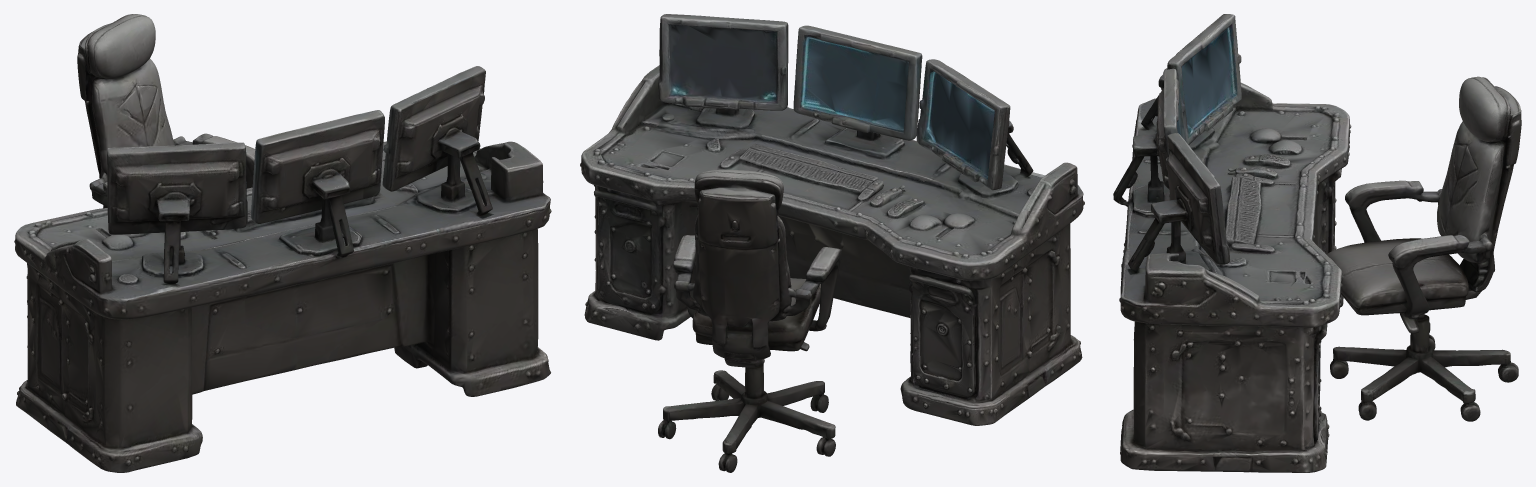
The model's file is consoles.glb.
3 renders of one model, left to right at view 1: azimuth 30°, elevation 25°; view 2: azimuth 150°, elevation 25°; view 3: azimuth 270°, elevation 25°, orthographic. The views are drawn at different scales.
Parts seen in each view (by area): view 1: tripo_node_49ed80cf-cb06-47de-b699-07d3ac62ad22; view 2: tripo_node_49ed80cf-cb06-47de-b699-07d3ac62ad22; view 3: tripo_node_49ed80cf-cb06-47de-b699-07d3ac62ad22.
Boxes of the visible parts, x1,y1,x2,y2 form: tripo_node_49ed80cf-cb06-47de-b699-07d3ac62ad22: [14, 14, 551, 472]; tripo_node_49ed80cf-cb06-47de-b699-07d3ac62ad22: [580, 14, 1084, 472]; tripo_node_49ed80cf-cb06-47de-b699-07d3ac62ad22: [1113, 14, 1521, 472].
Bounding box in the file's own units: 0.9997 × 0.6708 × 0.8235.
Materials: 1 (1 with a texture image).
